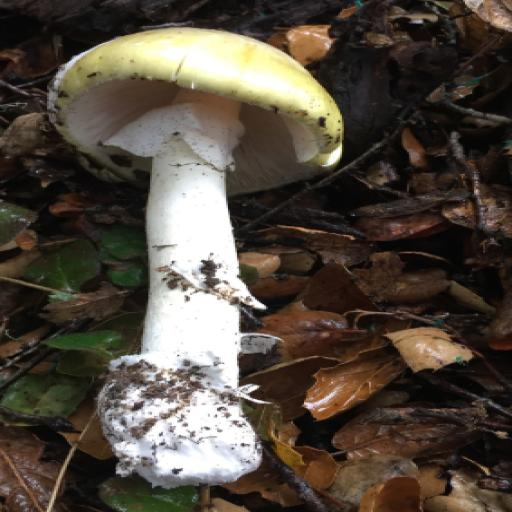Death Cap: (47, 5, 397, 494)
